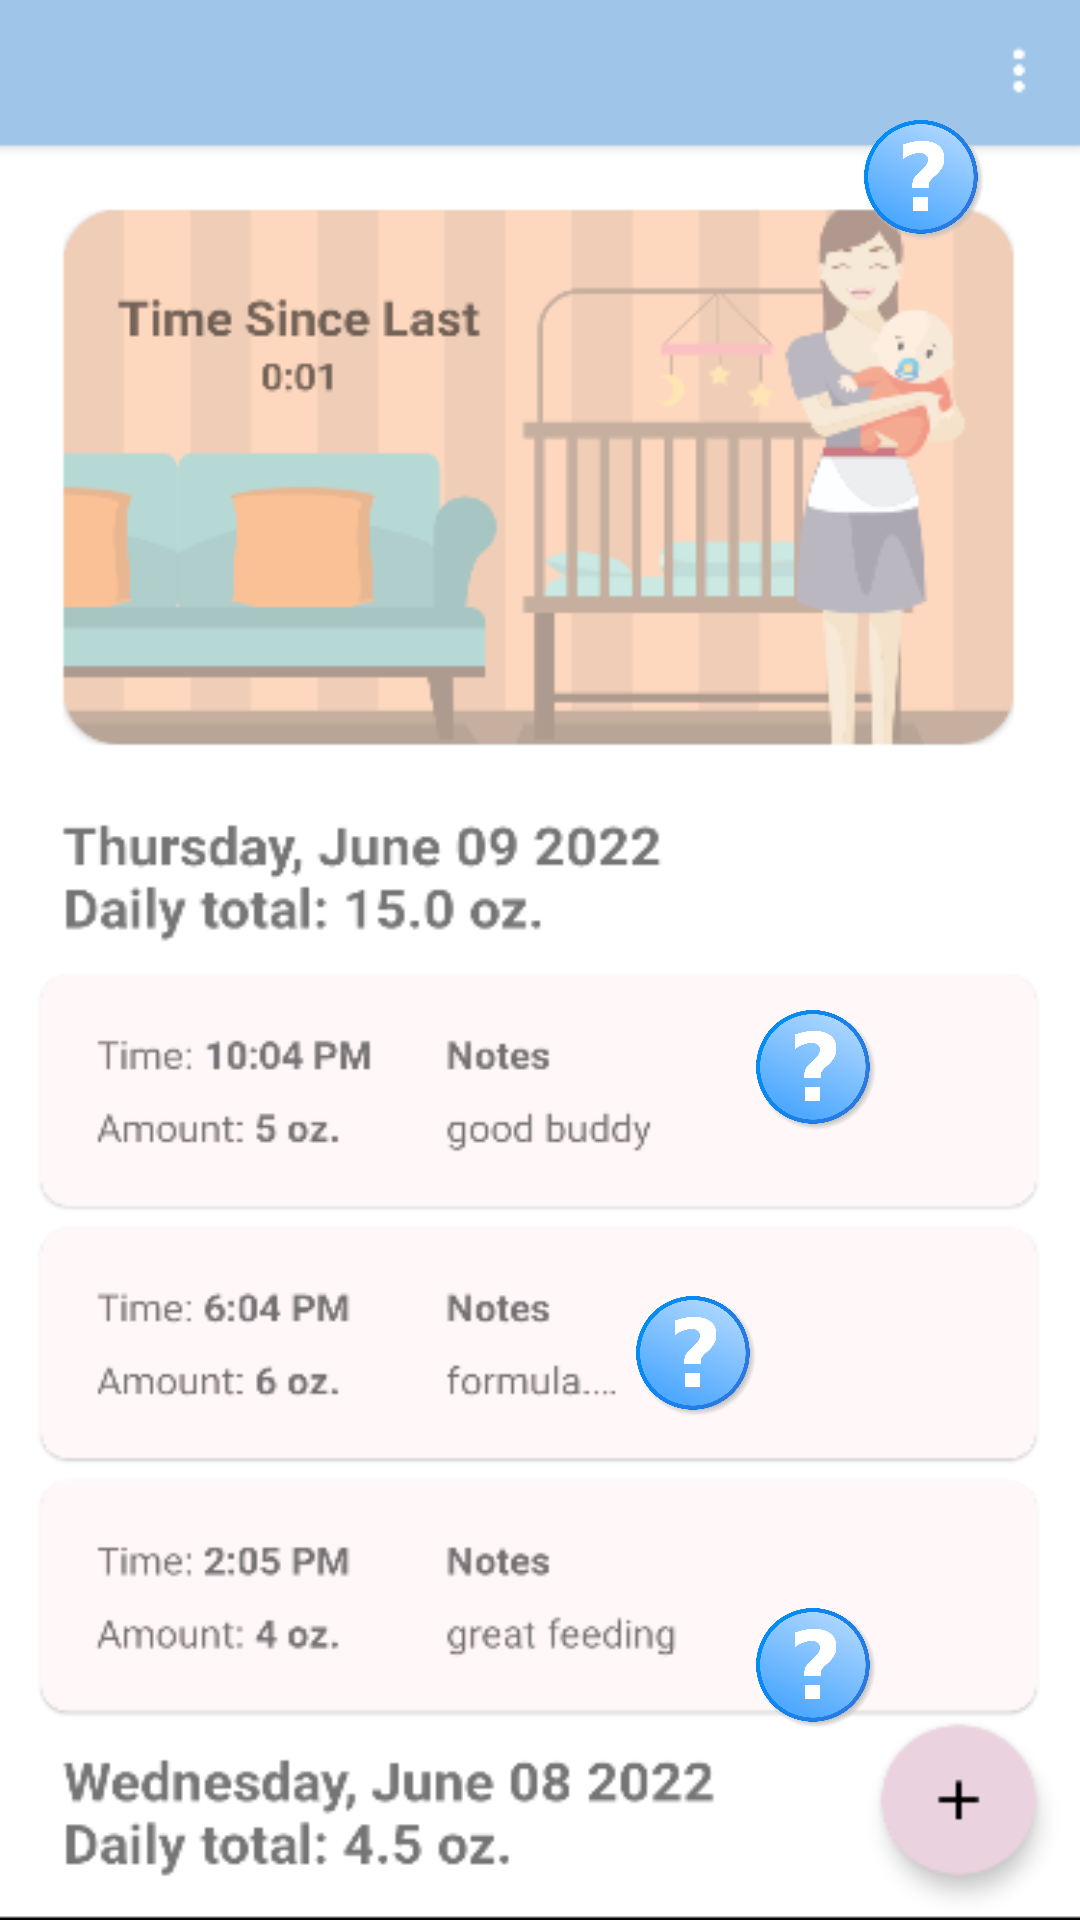

Icon click points for this 1080px x 1920px phone screenshot, format (x=x, y=y):
question mark: (x=924, y=180), (x=814, y=1068), (x=694, y=1354), (x=814, y=1666)
